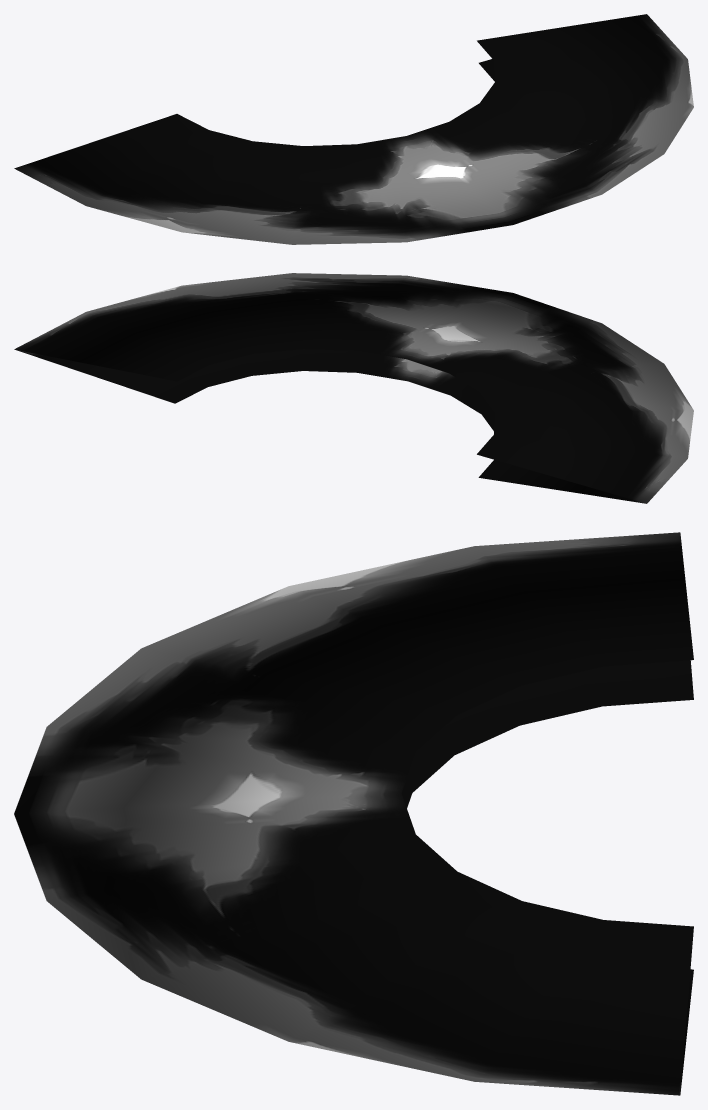
The model's file is Md_Rush_Slash.fbx.
3 views of the same model, one above another, from view 1: azimuth 30°, elevation 25°; view 2: azimuth 150°, elevation 25°; view 3: azimuth 270°, elevation 25° (orthographic). The views are drawn at different scales.
Visible parts, largest first — view 1: Md_Rush_Slash; view 2: Md_Rush_Slash; view 3: Md_Rush_Slash.
Part boxes in pixels (x1=…): Md_Rush_Slash: x1=14, y1=14, x2=693, y2=244; Md_Rush_Slash: x1=14, y1=273, x2=693, y2=503; Md_Rush_Slash: x1=14, y1=532, x2=693, y2=1095.
Bounding box in the file's own units: 2.84 × 0.0975 × 1.45.
